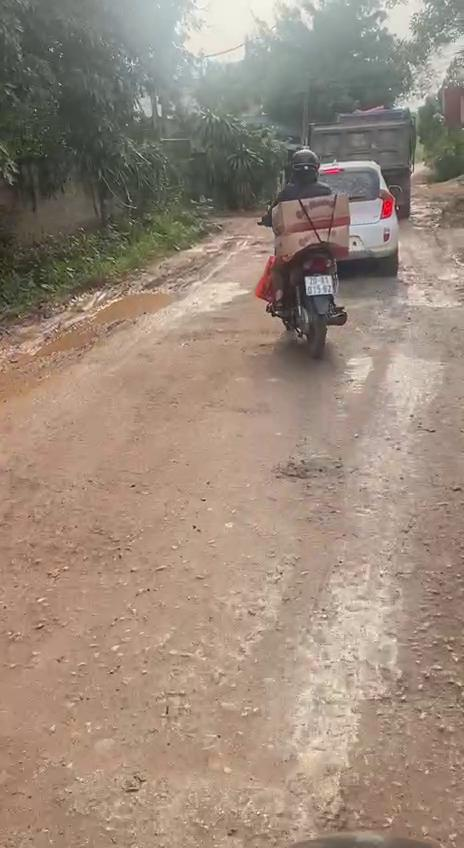pothole: (33, 284, 193, 362)
